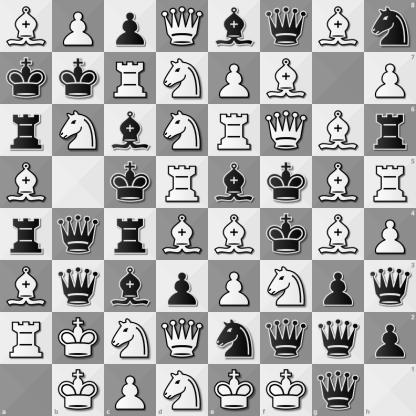B: (1, 1, 52, 52), (1, 157, 52, 208), (1, 261, 52, 312), (157, 209, 208, 260), (209, 209, 260, 260), (261, 53, 312, 104), (313, 1, 364, 52), (313, 105, 364, 156), (313, 157, 364, 208), (313, 209, 364, 260)
K: (52, 364, 104, 416), (260, 364, 312, 416), (209, 364, 260, 416), (53, 313, 104, 364)
N: (156, 364, 209, 416), (53, 105, 104, 156), (105, 313, 156, 364), (157, 53, 208, 104), (157, 105, 208, 156), (261, 261, 312, 312)
P: (104, 364, 156, 416), (364, 52, 416, 104), (364, 209, 416, 260), (53, 1, 104, 52), (209, 53, 260, 104), (209, 261, 260, 312)
Q: (157, 1, 208, 52), (157, 313, 208, 364), (261, 105, 312, 156)
R: (364, 156, 416, 209), (1, 313, 52, 364), (105, 53, 156, 104), (157, 157, 208, 208), (209, 105, 260, 156)
b: (105, 105, 156, 156), (105, 261, 156, 312), (209, 1, 260, 52), (209, 157, 260, 208)
board: (0, 0, 415, 415)
k: (1, 53, 52, 104), (53, 53, 104, 104), (105, 157, 156, 208), (261, 157, 312, 208), (261, 209, 312, 260)
n: (364, 0, 416, 52), (209, 313, 260, 364)
p: (364, 312, 416, 364), (105, 1, 156, 52), (157, 261, 208, 312), (313, 261, 364, 312)
q: (312, 364, 364, 416), (364, 260, 416, 312), (53, 209, 104, 260), (53, 261, 104, 312), (261, 1, 312, 52), (261, 313, 312, 364), (313, 313, 364, 364)
r: (364, 104, 416, 156), (1, 105, 52, 156), (1, 209, 52, 260), (105, 209, 156, 260)
